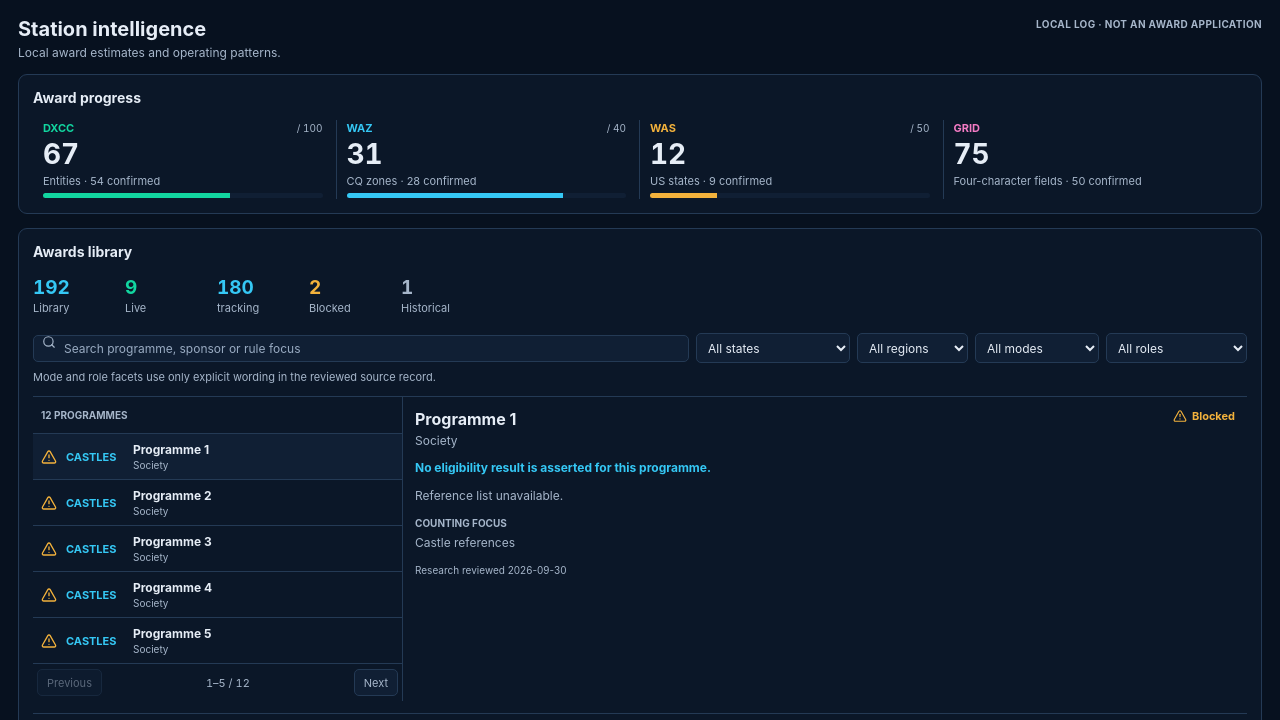
it: native Insights and Awards presentation › pages five programmes at a time and keeps selection and filters usable on later pages
The width and height of the screenshot is (1280, 720).
Expected: the text "1–5 / 12" is shown, [206,676,250,690]
Expected: the button "Previous" is disabled, [37,669,102,696]
Click the button "Next" at coordinates (376, 683), box [354,669,398,696]
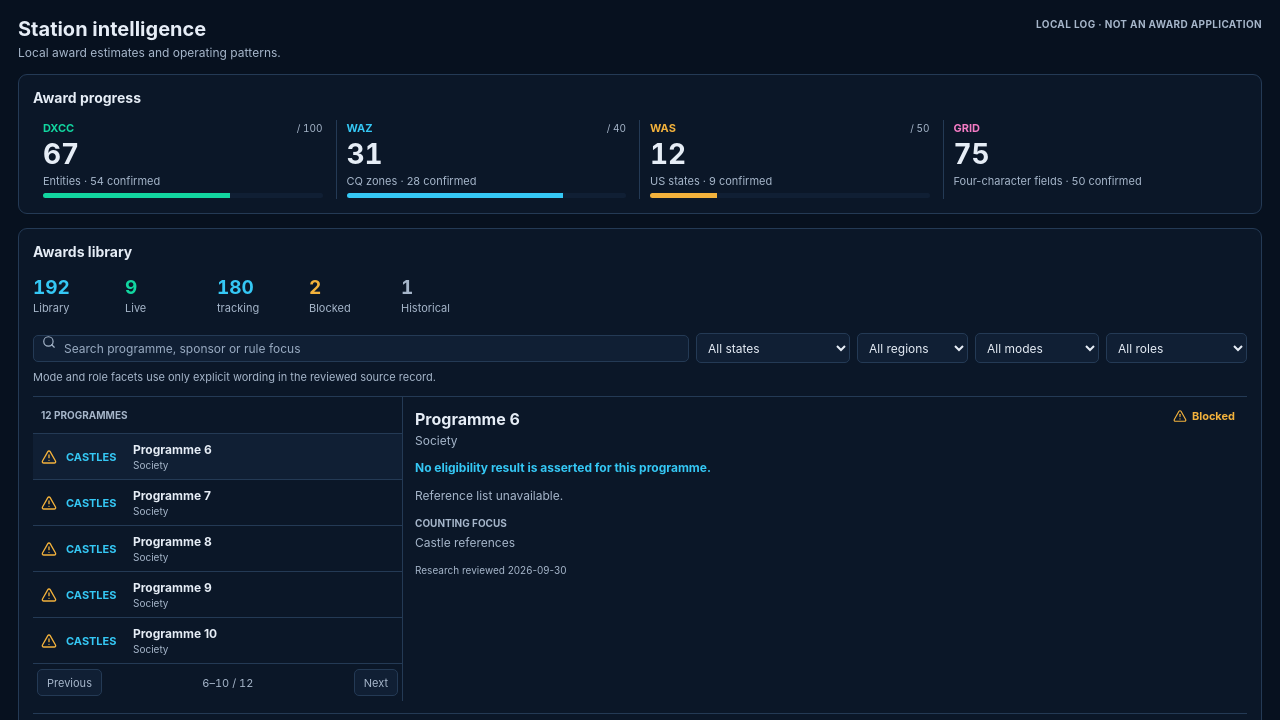
Result: the button with aria-label "Programme 10, Blocked" is shown
Result: the text "6–10 / 12" is shown at [202,676,253,690]
Click the button with aria-label "Programme 10, Blocked" at coordinates (218, 640), box [33,617,402,663]
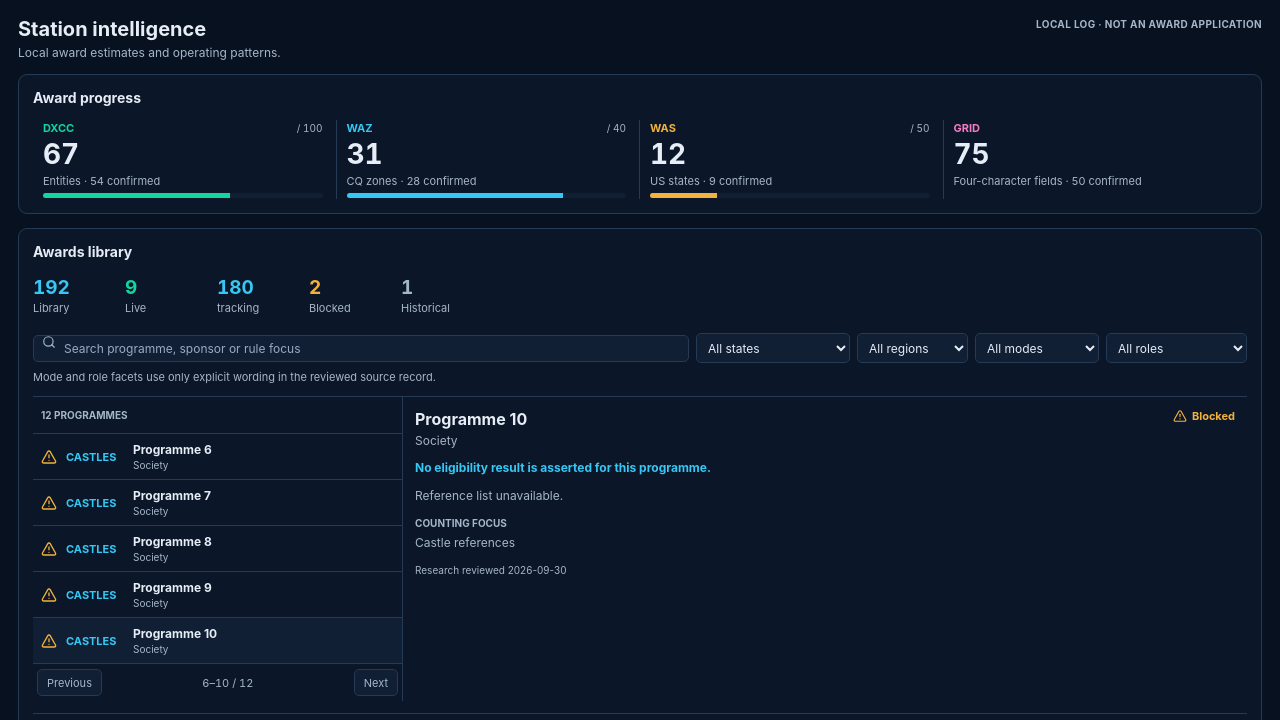
Result: the element named "Programme 10 detail" is shown at [403,397,1247,588]
Click the button "Next" at coordinates (376, 683), box [354,669,398,696]
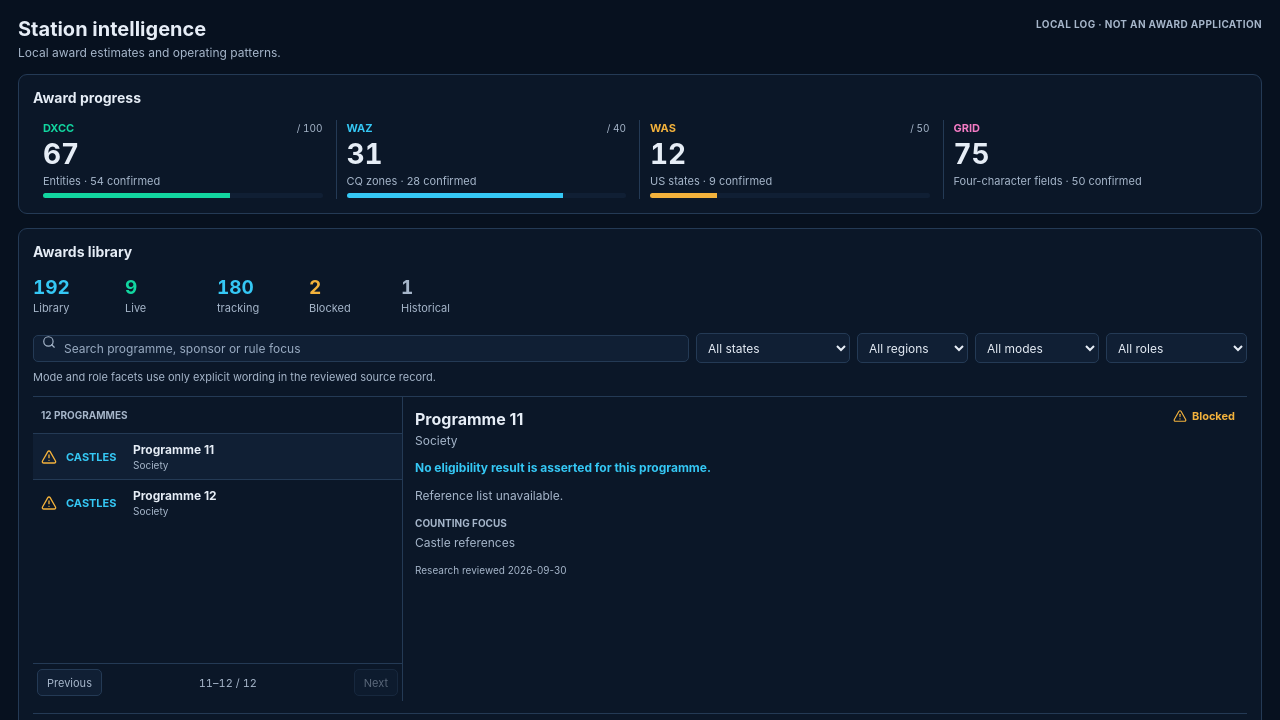
Result: the button with aria-label "Programme 12, Blocked" is shown at [33,479,402,525]
Result: the text "11–12 / 12" is shown at [199,676,257,690]
Result: the button "Next" is disabled at [354,669,398,696]
Click the button "Previous" at coordinates (69, 683), box [37,669,102,696]
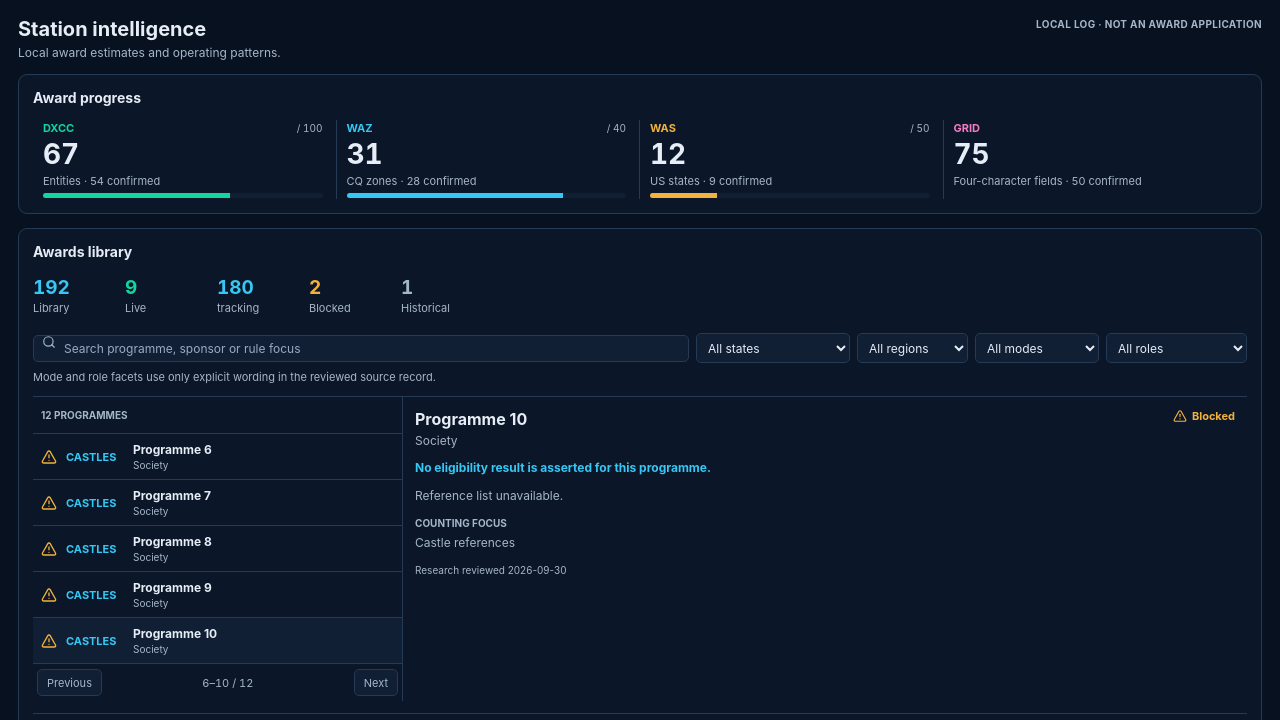
Result: the button with aria-label "Programme 6, Blocked" is shown at [33,433,402,479]
Type "Programme 12" into the field named "Search programmes" at coordinates (361, 348), box [33,335,689,362]
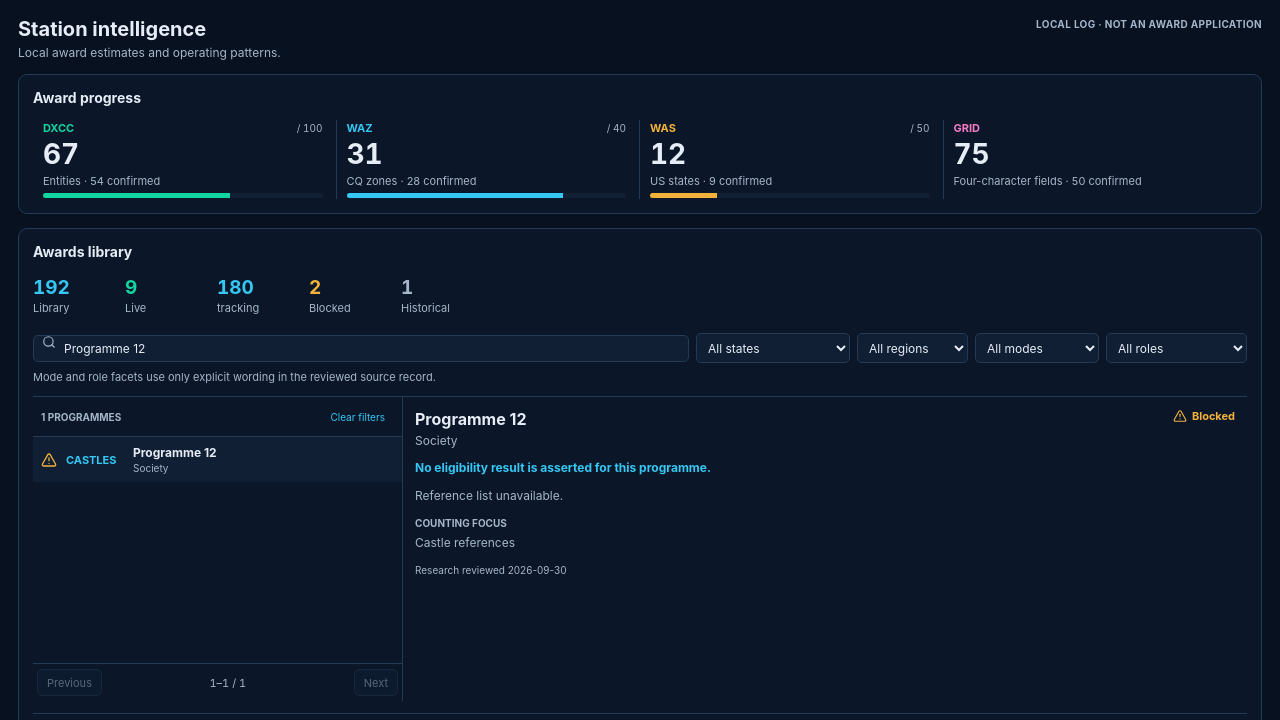
Result: the text "1–1 / 1" is shown at [209,676,246,690]
Result: the element named "Programme 12 detail" is shown at [403,397,1247,588]
